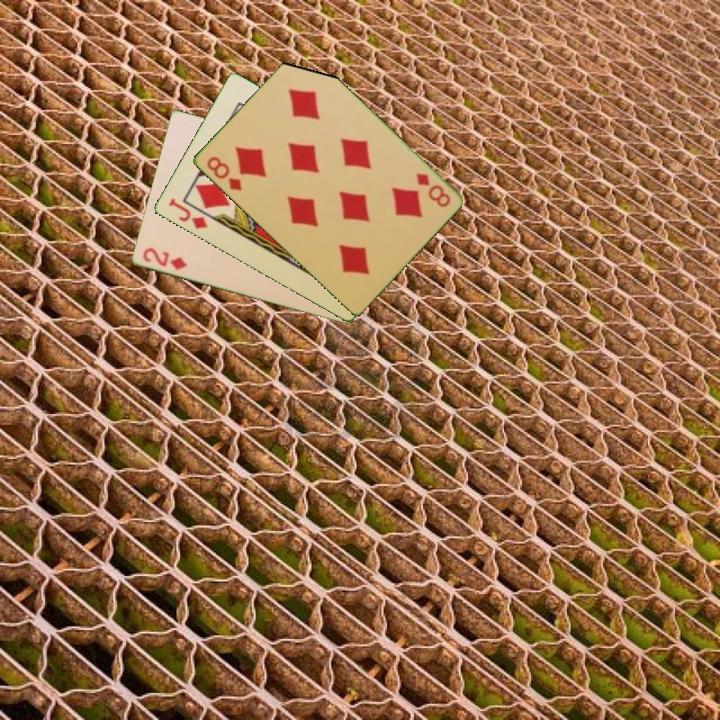2d: (139, 244, 190, 273)
8d: (411, 169, 453, 210), (203, 153, 244, 194)
Jd: (165, 195, 210, 232)
